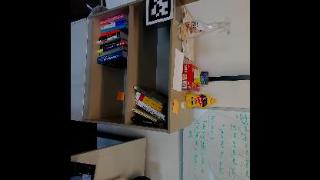book-spine: (96, 41, 125, 53), (97, 45, 124, 57), (98, 13, 125, 24), (98, 38, 121, 50), (100, 20, 125, 30), (99, 24, 125, 33), (97, 31, 120, 41), (96, 34, 120, 43), (99, 29, 118, 37)
